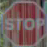Stop: (3, 0, 44, 46)
